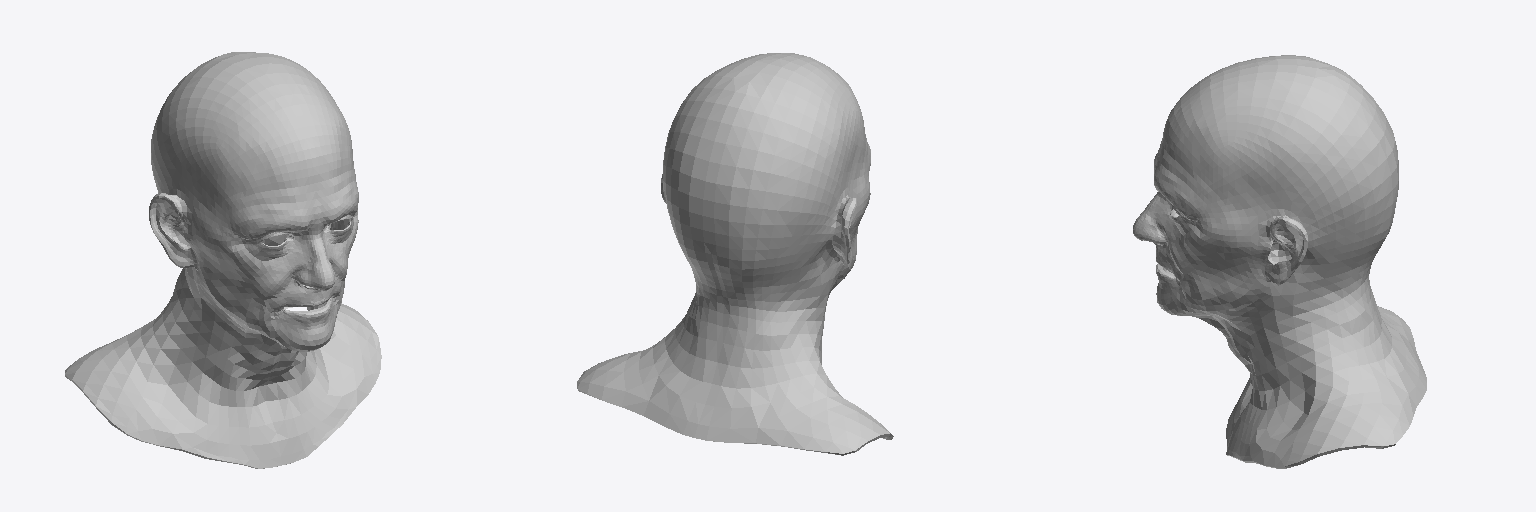
Rendered from wholeFace_NasalCartilage_deepBed.obj.
3 renders of one model, left to right at view 1: azimuth 30°, elevation 25°; view 2: azimuth 150°, elevation 25°; view 3: azimuth 270°, elevation 25°, orthographic.
Size of the model in its own units: 24.92 by 31.91 by 22.28.